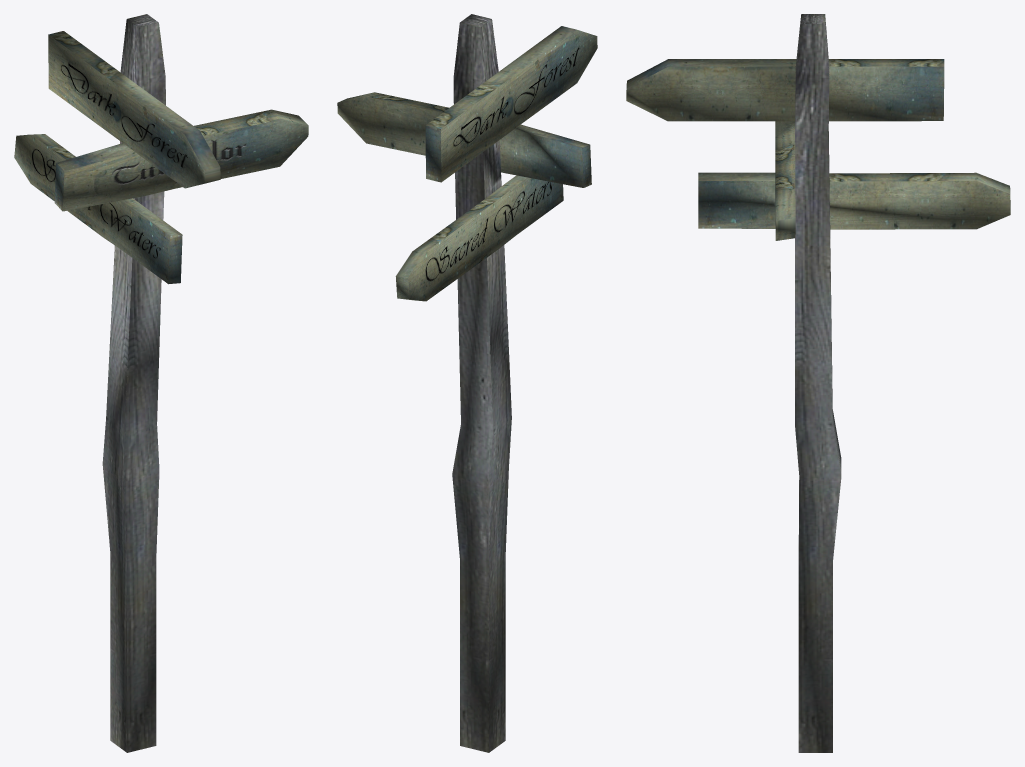
The model's file is signpost3.obj.
The picture shows the model from 3 angles, left to right: view 1: azimuth 30°, elevation 25°; view 2: azimuth 150°, elevation 25°; view 3: azimuth 270°, elevation 25°; orthographic projection.
Bounding box in the file's own units: 39.82 × 112 × 53.26.
Materials: 1 (1 with a texture image).
